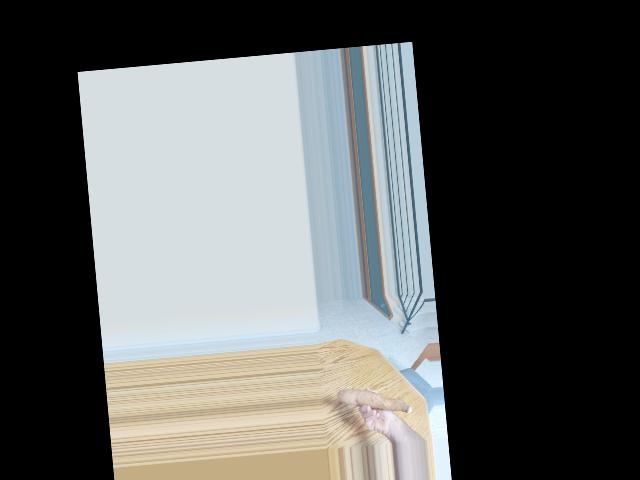sweet_potato: (339, 379, 412, 426)
